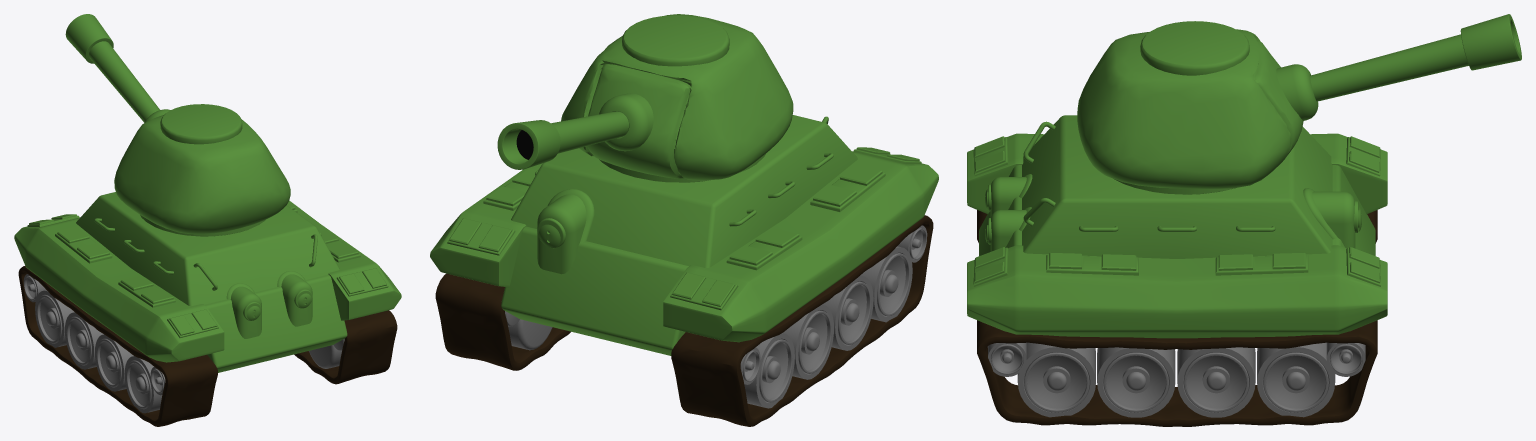
File: Tank_Toy.fbx
3 renders of one model, left to right at view 1: azimuth 30°, elevation 25°; view 2: azimuth 150°, elevation 25°; view 3: azimuth 270°, elevation 25°, orthographic. The views are drawn at different scales.
Parts seen in each view (by area): view 1: Tank_Base, Tank_Head; view 2: Tank_Base, Tank_Head; view 3: Tank_Base, Tank_Head.
Part boxes in pixels (box(x1,y1,x2,y2)): Tank_Base: box(14, 192, 401, 426); Tank_Head: box(65, 14, 290, 236); Tank_Base: box(430, 115, 938, 426); Tank_Head: box(497, 14, 793, 182); Tank_Base: box(967, 115, 1387, 426); Tank_Head: box(1077, 14, 1521, 194).
Bounding box in the file's own units: 165 × 160 × 239.
